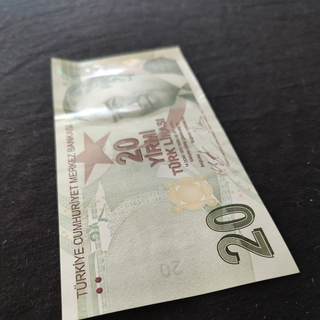20TLFront: (48, 44, 301, 320)
